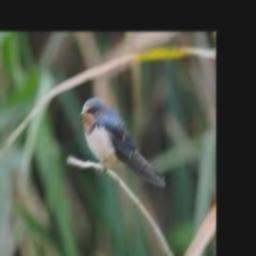Swallow: (82, 98, 168, 187)
